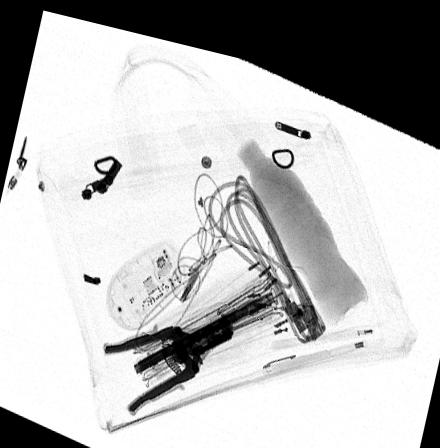Pliers: (103, 305, 236, 411)
